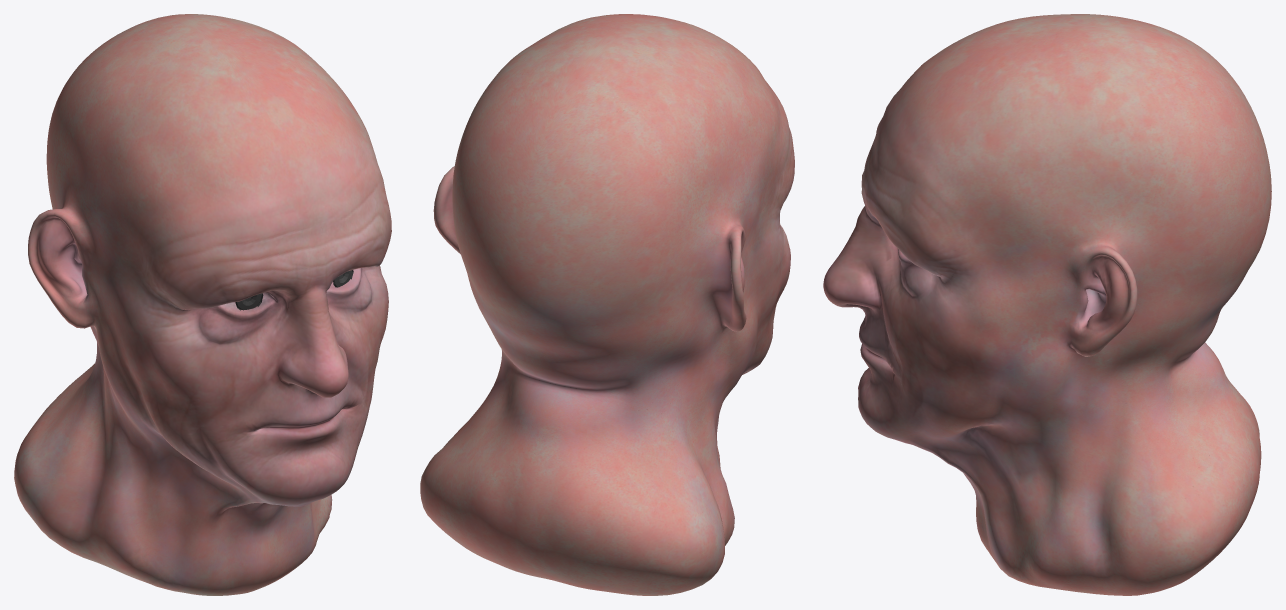
File: head.glb
3 views of the same model, side by side, from view 1: azimuth 30°, elevation 25°; view 2: azimuth 150°, elevation 25°; view 3: azimuth 270°, elevation 25° (orthographic).
Parts seen in each view (by area): view 1: PM3D_Sphere3D_3.000_2; view 2: PM3D_Sphere3D_3.000_2; view 3: PM3D_Sphere3D_3.000_2.
Boxes of the visible parts, <box> form: PM3D_Sphere3D_3.000_2: <box>14,14,391,595</box>; PM3D_Sphere3D_3.000_2: <box>420,14,794,595</box>; PM3D_Sphere3D_3.000_2: <box>823,14,1271,595</box>.
Bounding box in the file's own units: 2.34 × 3.86 × 2.9.
3 materials, 1 textured.
